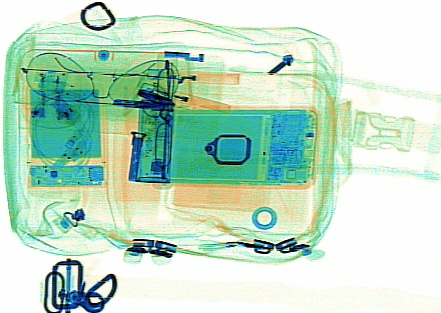lighter: (138, 80, 230, 115), (144, 66, 240, 86)
